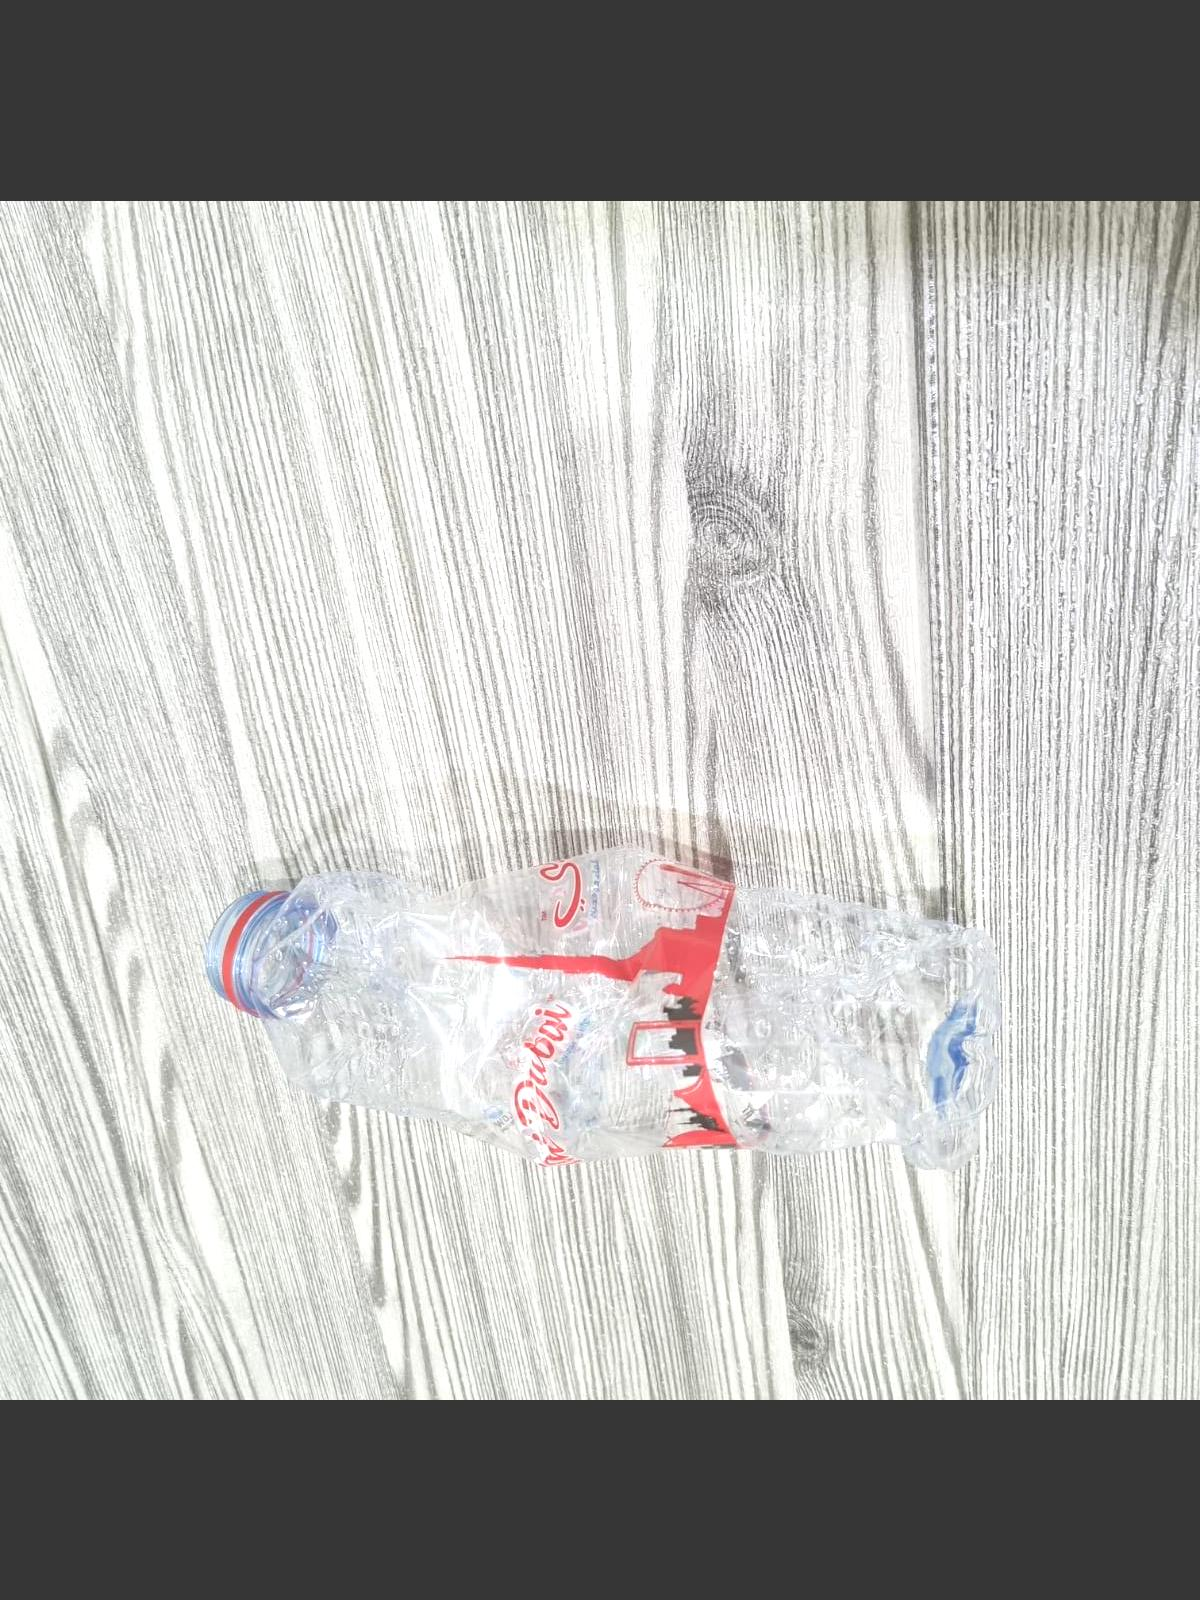bottle: (181, 818, 981, 1178)
